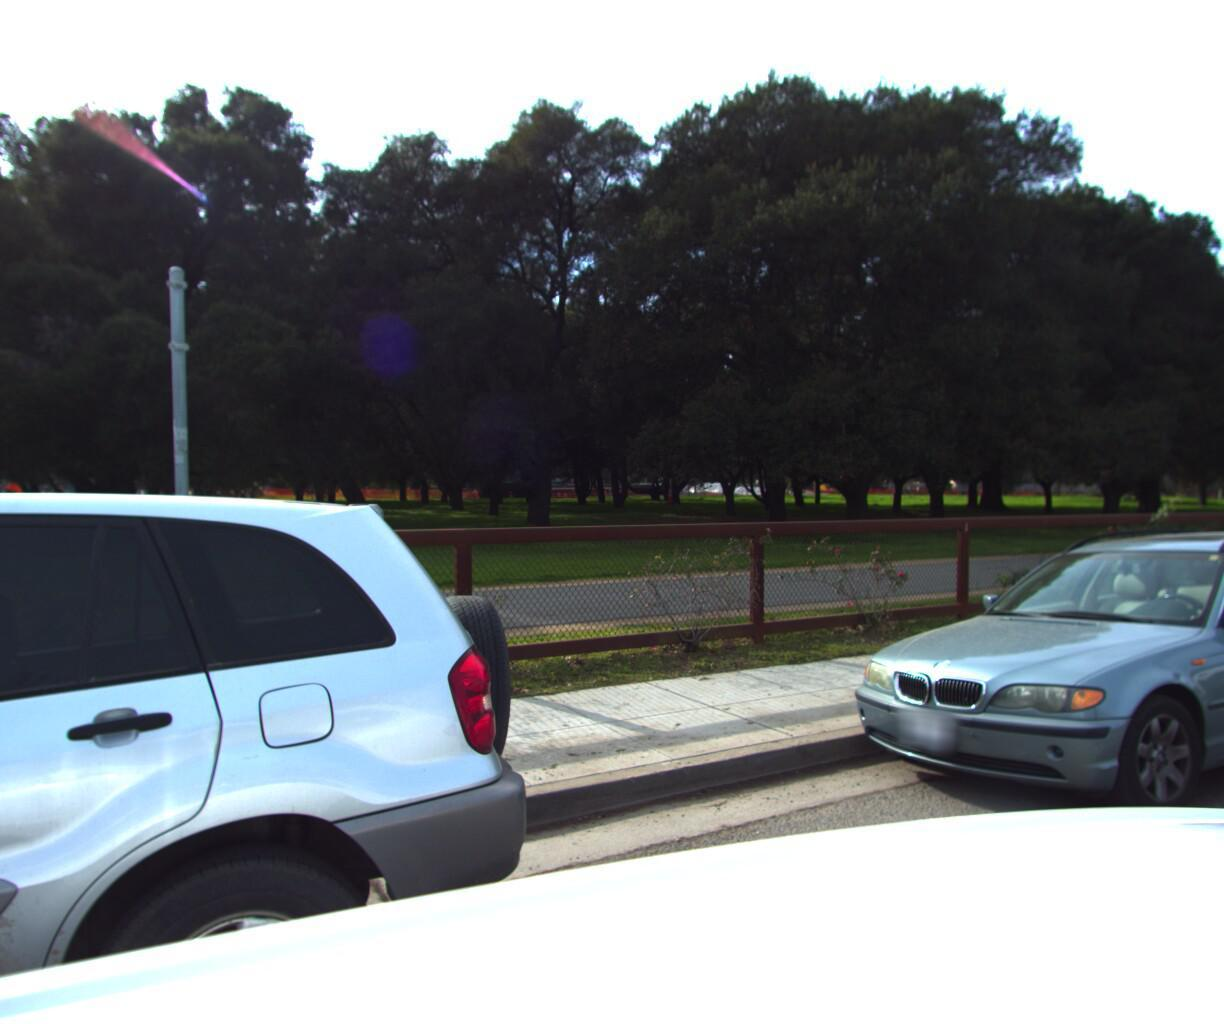car: (0, 481, 636, 1024), (812, 502, 1224, 856)
